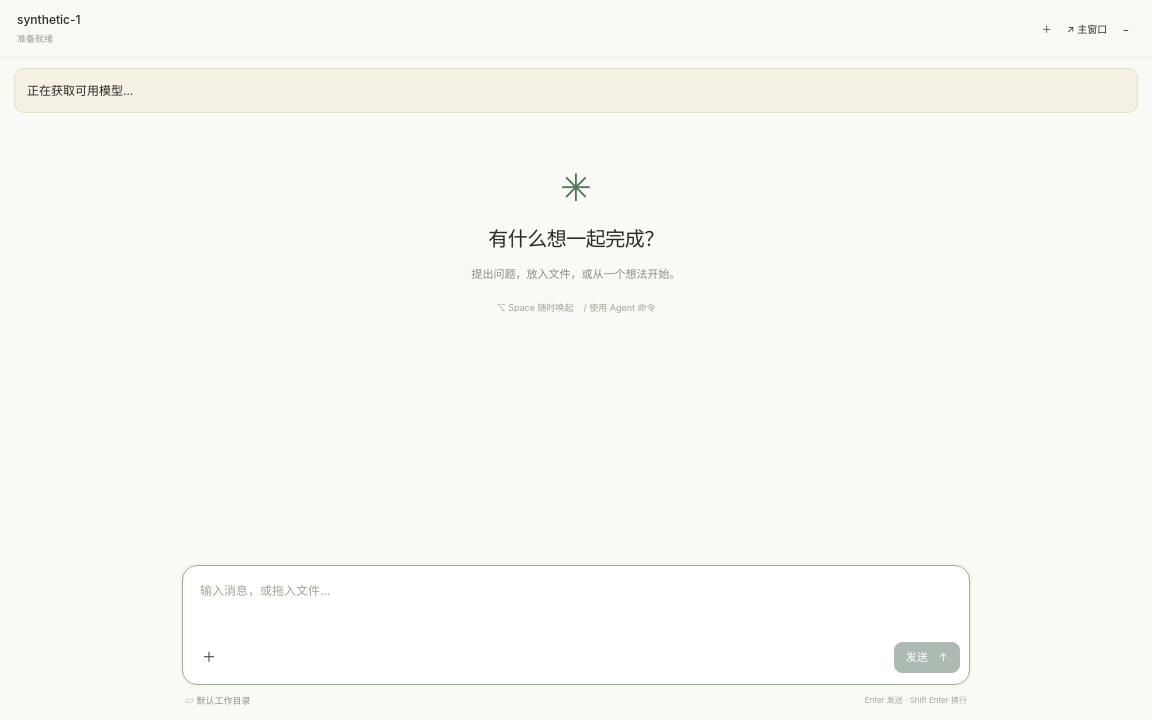
Test: saves an unsent follow-up after hiding and switching during that session's send
Expected: the text "synthetic-1" is shown, [17,10,80,29]
Type "sent original" into the text box labelled "消息" at (576, 600), box [183,566,969,634]
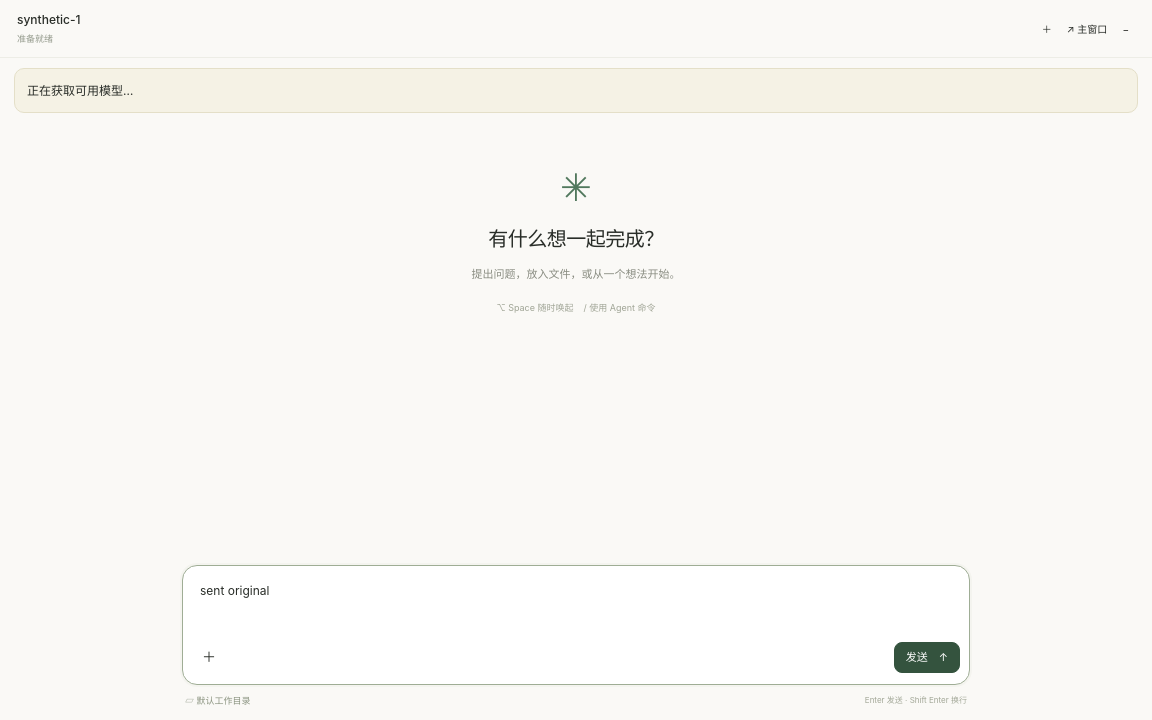
Click the button "发送 ↑" at (927, 657), box [894,642,960,673]
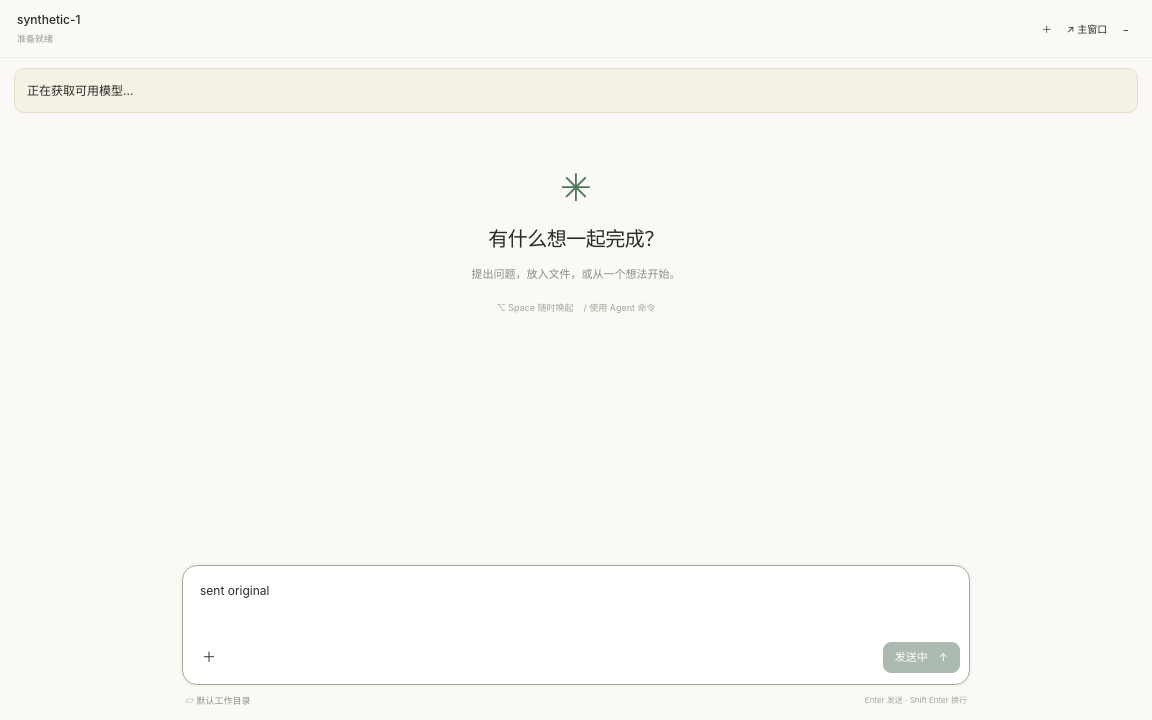
Replace the text in the text box named "消息" with "unsent follow-up" at (576, 600), box [183,566,969,634]
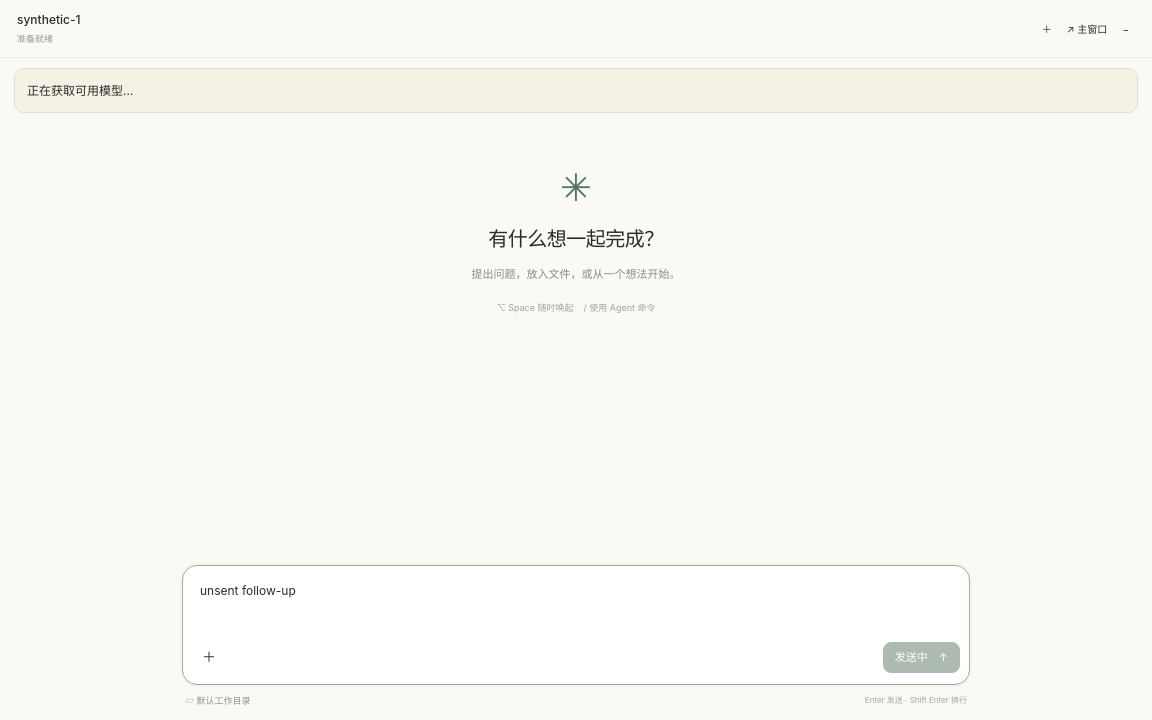
Press Escape in the text box named "消息", box [183,566,969,634]
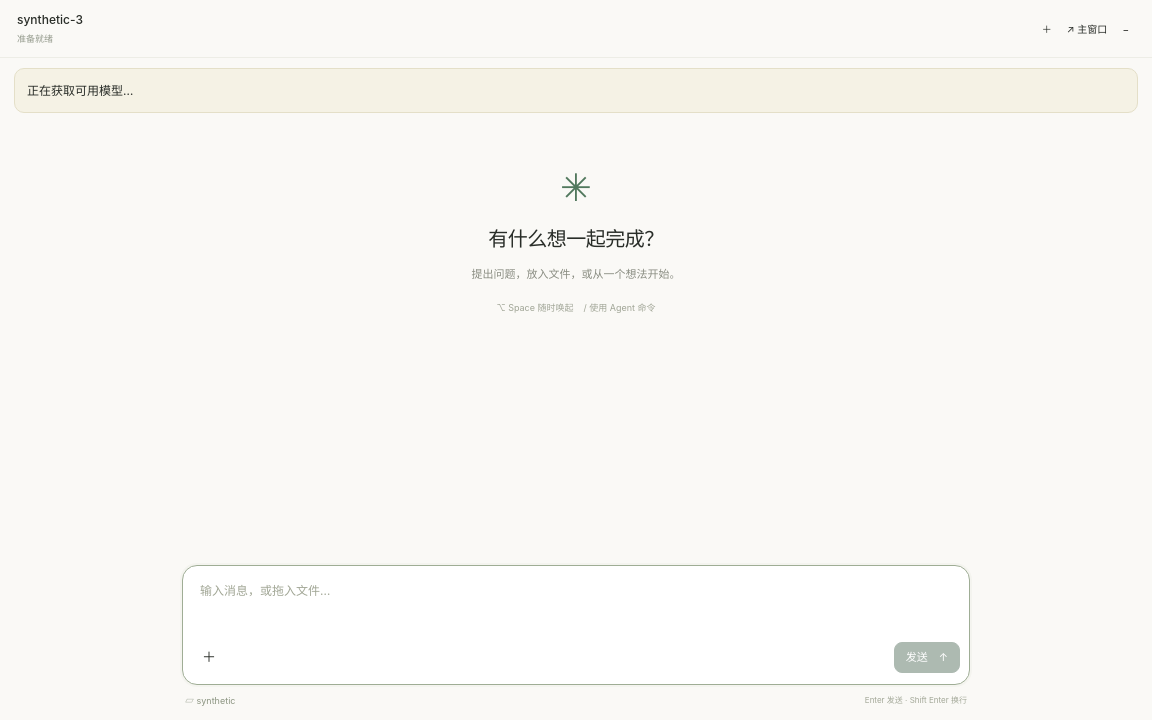
Now the text "synthetic-3" is shown, box [17,10,83,29]
